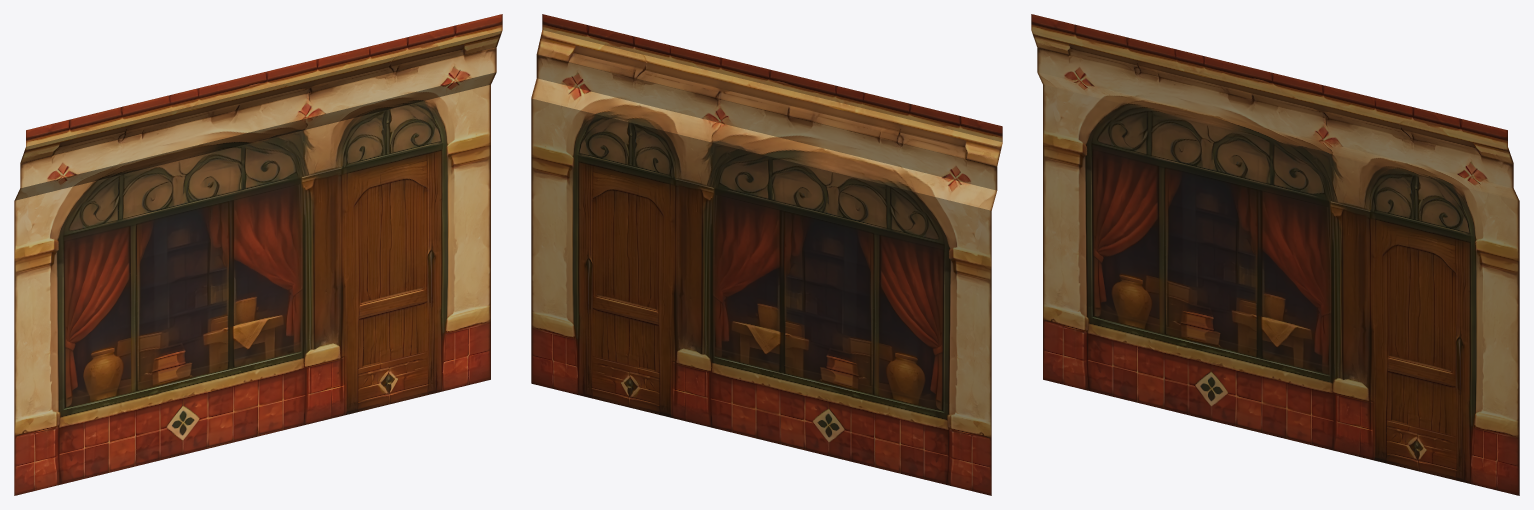
File: SPN_G_Bay6A.fbx
3 renders of one model, left to right at view 1: azimuth 30°, elevation 25°; view 2: azimuth 150°, elevation 25°; view 3: azimuth 330°, elevation 25°, orthographic. The views are drawn at different scales.
Visible parts, largest first — view 1: SPN_G_Bay6A; view 2: SPN_G_Bay6A; view 3: SPN_G_Bay6A.
Boxes of the visible parts, <box> form: SPN_G_Bay6A: <box>14,14,502,495</box>; SPN_G_Bay6A: <box>531,14,1002,495</box>; SPN_G_Bay6A: <box>1031,14,1519,495</box>.
Bounding box in the file's own units: 6 × 0.25 × 4.5.
1 material, 1 textured.
